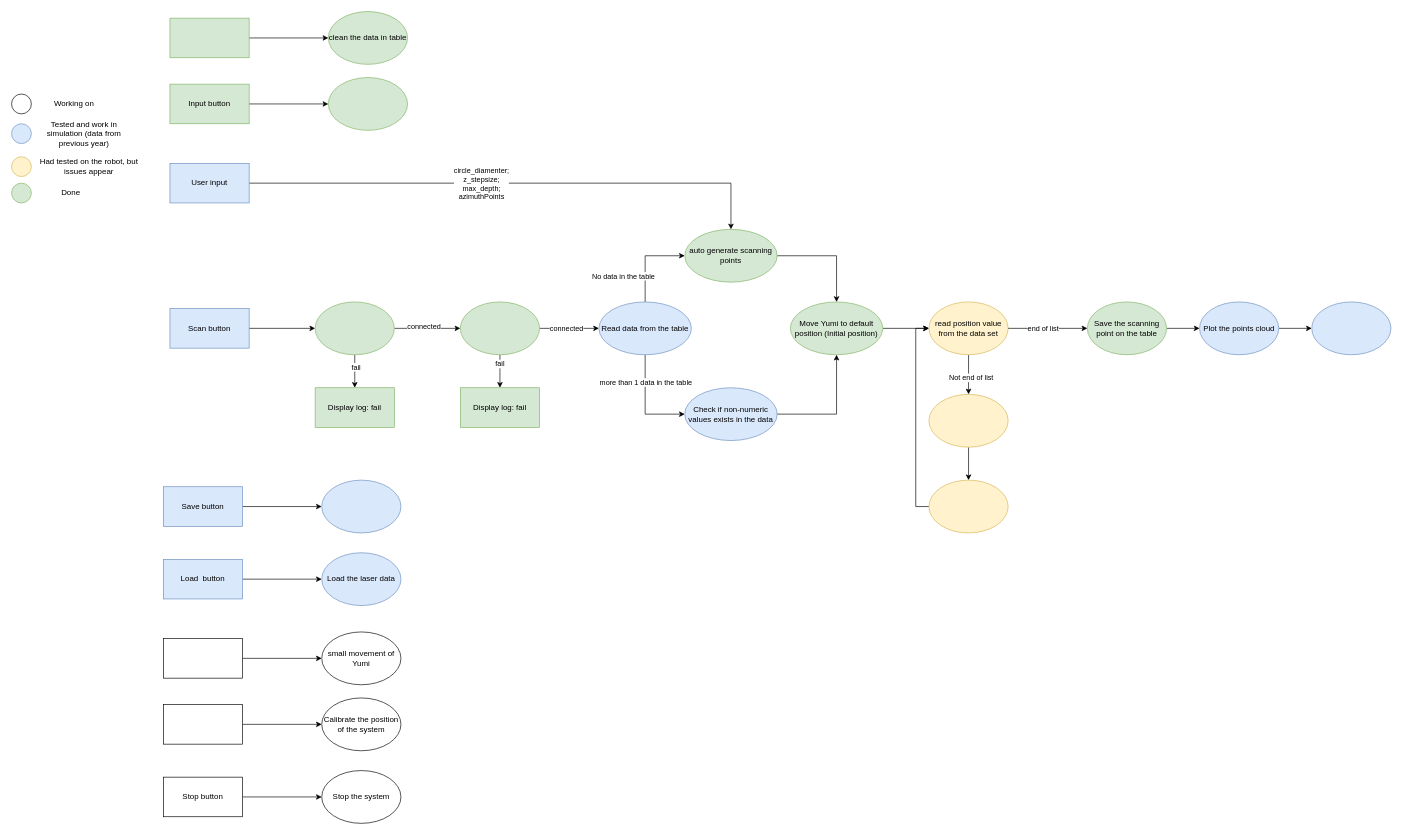
Some shapes in this 1403 by 835 pixel diagram are drawn without their labels. The shapes that lost their labels are listed below. From the top down, each one's centre as x and y in pixels, then its label:
At (209,37): "Clear button".
At (368,103): "read the x,y,z value and add them to table".
At (354,328): "Connect Yumi".
At (500,328): "Connect Laser".
At (1351,328): "3D reconstruction".
At (968,420): "move end-effector to the position".
At (361,506): "Save the laser data".
At (968,506): "read laser data and store it".
At (203,658): "X, Y, Z (Up and down) button".
At (203,724): "Calibration button".
